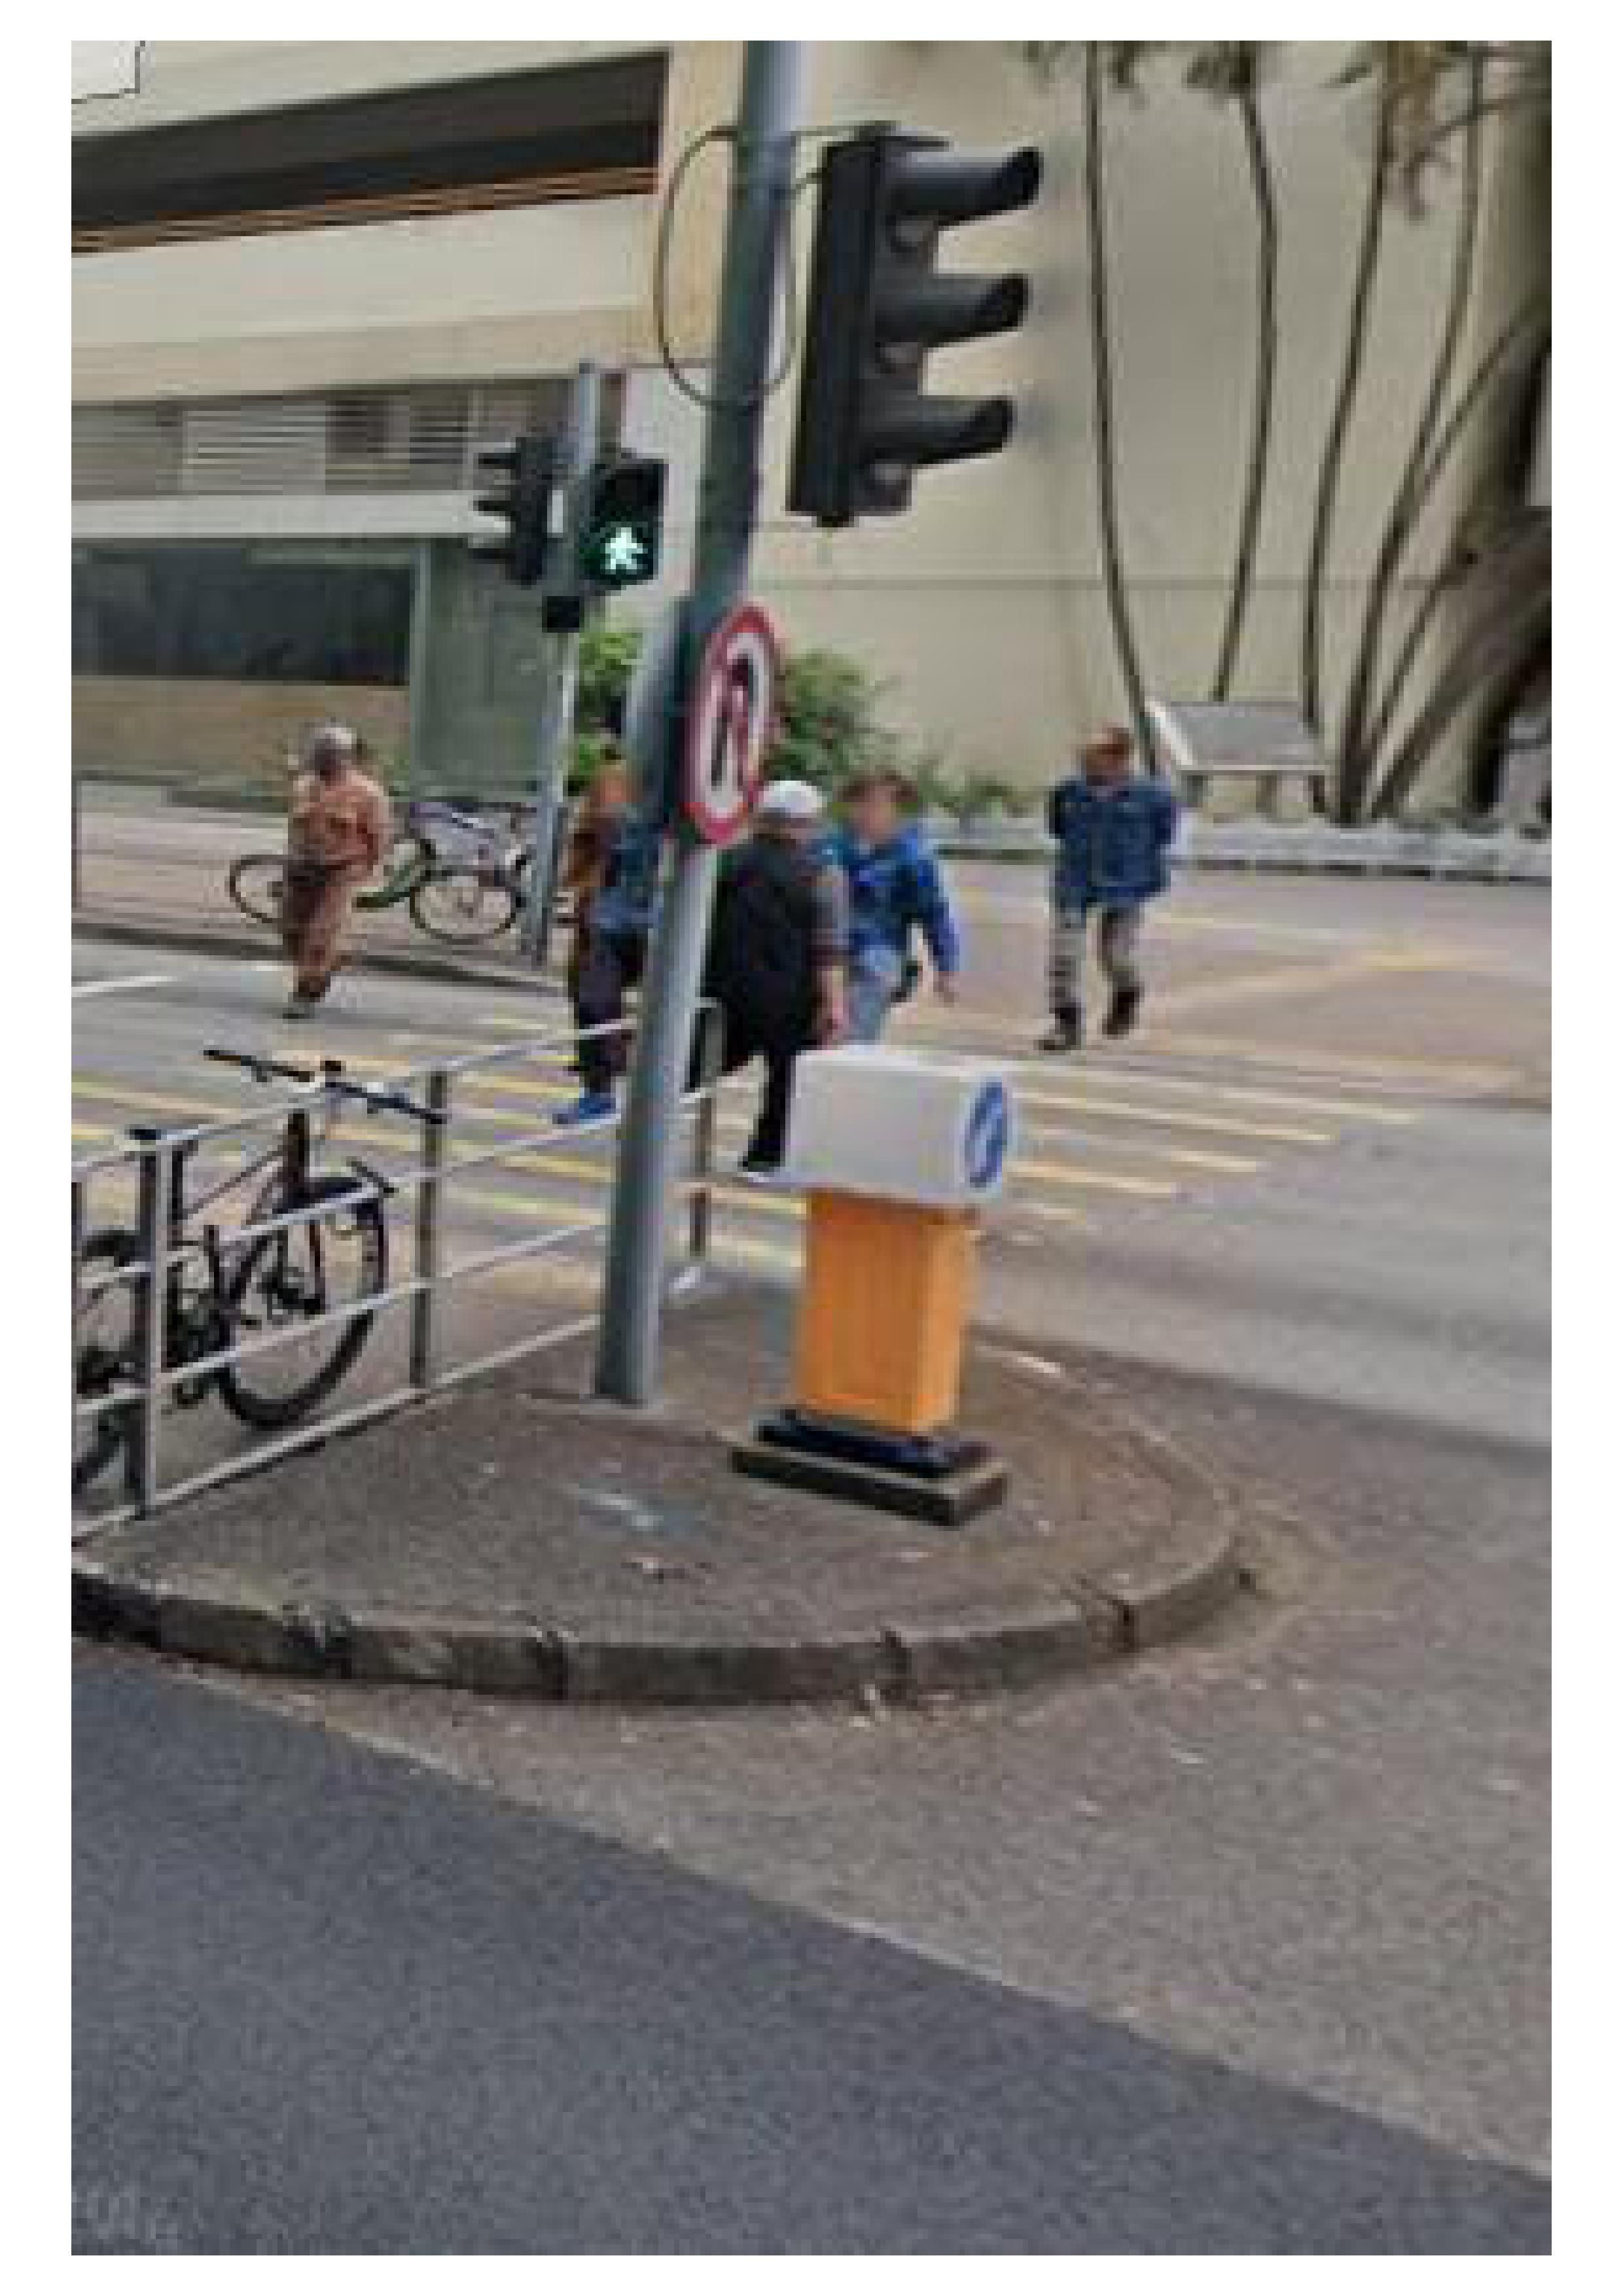No Uturn: (669, 604, 790, 837)
